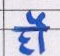ai_matra: (27, 11, 49, 28)
